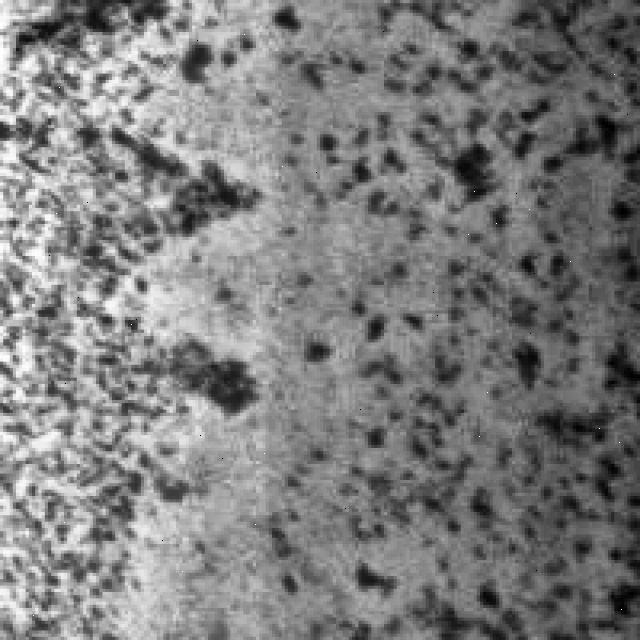Rolled_in_Scale: (284, 3, 618, 611), (10, 3, 256, 608)
